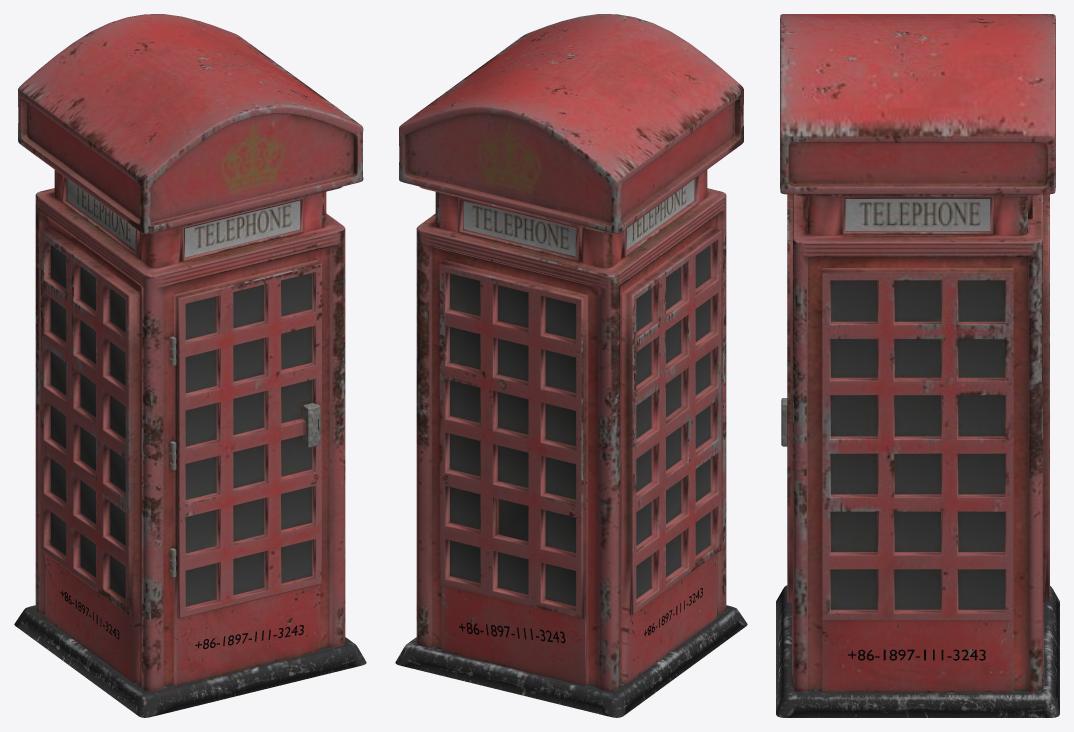
The model's file is telephone.glb.
3 renders of one model, left to right at view 1: azimuth 30°, elevation 25°; view 2: azimuth 150°, elevation 25°; view 3: azimuth 270°, elevation 25°, orthographic. The views are drawn at different scales.
Parts seen in each view (by area): view 1: polySurface2, pCube1; view 2: polySurface2; view 3: polySurface2, Text.
Part boxes in pixels (<box>): polySurface2: <box>14,14,366,717</box>; pCube1: <box>303,403,320,447</box>; polySurface2: <box>395,14,747,717</box>; polySurface2: <box>776,14,1059,717</box>; Text: <box>848,649,985,660</box>.
Bounding box in the file's own units: 0.8187 × 2 × 0.8187.
Materials: 4 (3 with a texture image).
